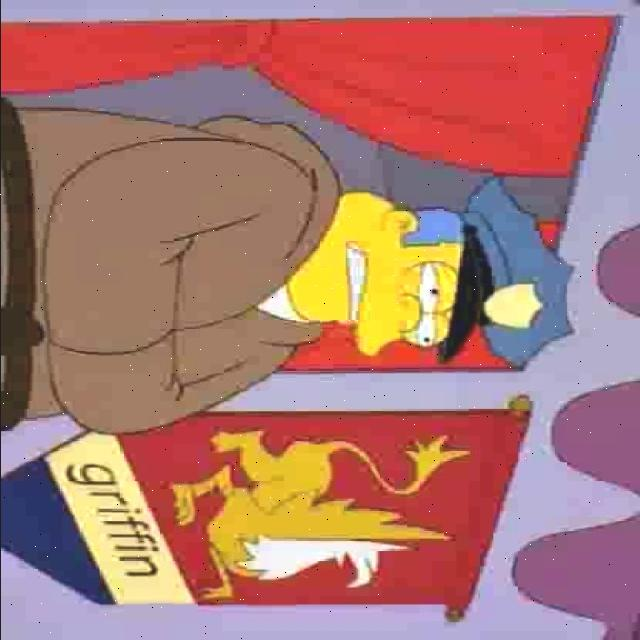Chief Wiggam: (283, 171, 572, 371)
